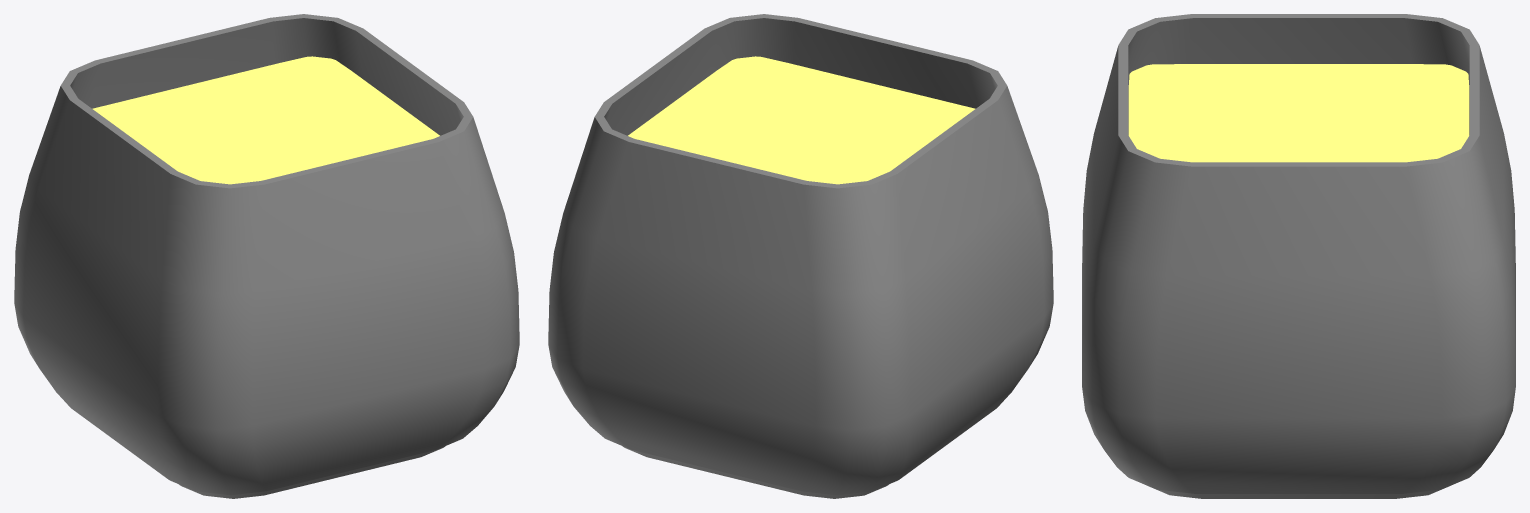
The model's file is caldero2.fbx.
The picture shows the model from 3 angles, left to right: view 1: azimuth 30°, elevation 25°; view 2: azimuth 150°, elevation 25°; view 3: azimuth 270°, elevation 25°; orthographic projection. The views are drawn at different scales.
Parts seen in each view (by area): view 1: Caldero, ContenidoCaldero; view 2: Caldero, ContenidoCaldero; view 3: Caldero, ContenidoCaldero.
Boxes of the visible parts, x1=… form: Caldero: x1=14, y1=14, x2=519, y2=498; ContenidoCaldero: x1=92, y1=56, x2=439, y2=184; Caldero: x1=548, y1=14, x2=1053, y2=498; ContenidoCaldero: x1=628, y1=56, x2=975, y2=184; Caldero: x1=1082, y1=14, x2=1515, y2=498; ContenidoCaldero: x1=1128, y1=64, x2=1469, y2=162.
Size of the model in its own units: 240 by 208 by 240.
